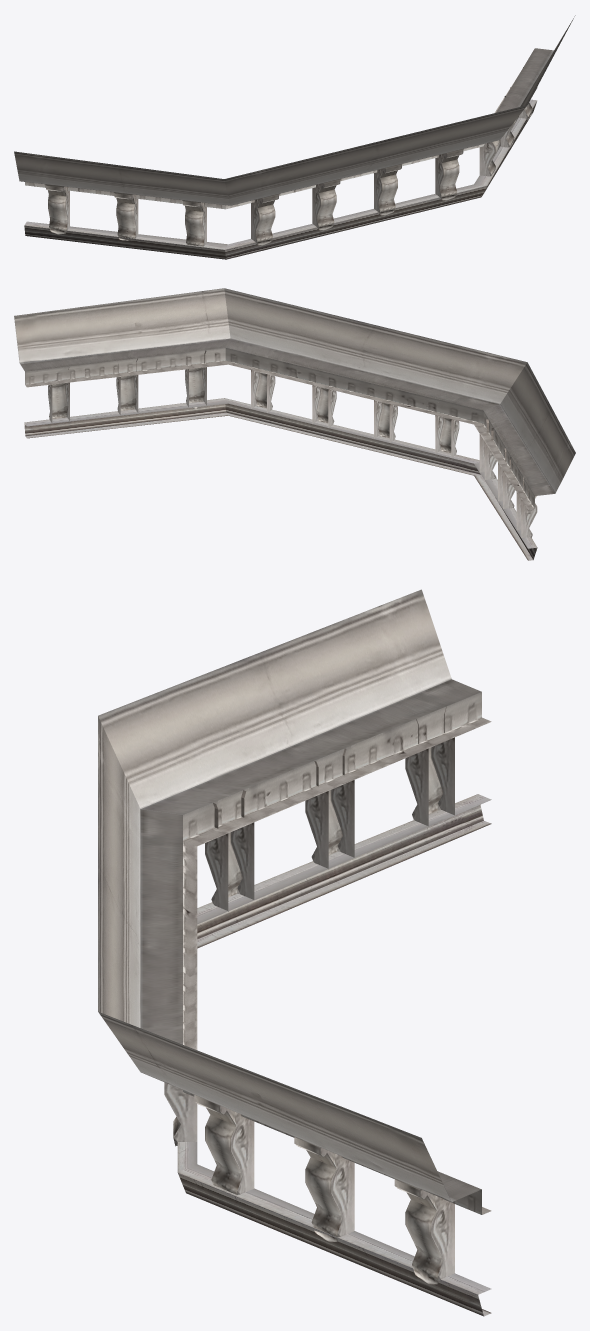
The model's file is WallRooflineBowWindowA.fbx.
The picture shows the model from 3 angles, top to bottom: view 1: azimuth 30°, elevation 25°; view 2: azimuth 150°, elevation 25°; view 3: azimuth 270°, elevation 25°; orthographic projection. The views are drawn at different scales.
Parts seen in each view (by area): view 1: WallRooflineBowWindowA; view 2: WallRooflineBowWindowA; view 3: WallRooflineBowWindowA.
Boxes of the visible parts, left/top/right/bottom form: WallRooflineBowWindowA: left=14, top=15, right=575, bottom=259; WallRooflineBowWindowA: left=14, top=288, right=575, bottom=560; WallRooflineBowWindowA: left=98, top=589, right=491, bottom=1316.
Bounding box in the file's own units: 458 × 79.74 × 139.
